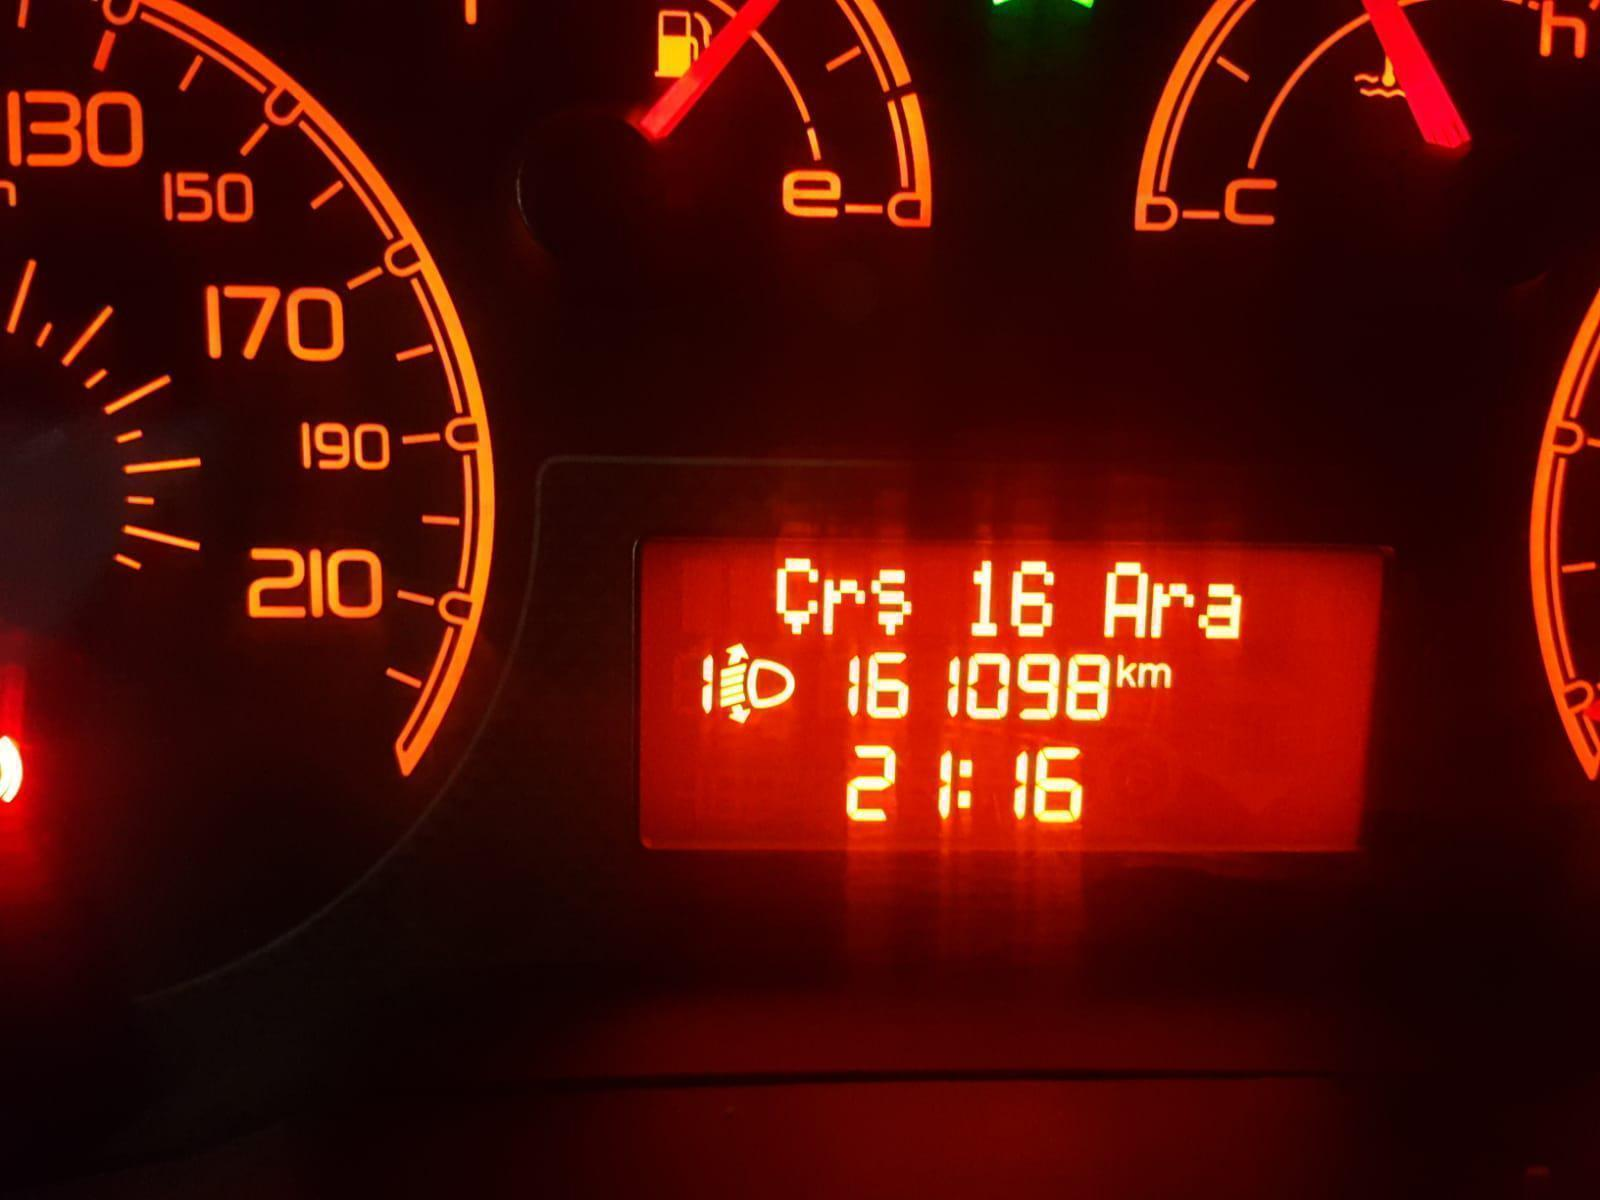0: (965, 650, 1012, 721)
1: (969, 558, 998, 638), (935, 749, 954, 821), (1010, 749, 1029, 821), (945, 654, 963, 718), (700, 652, 716, 715), (847, 654, 860, 716)
2: (843, 742, 897, 822)
6: (1031, 745, 1083, 824), (1008, 558, 1054, 637), (864, 650, 911, 720)
8: (1063, 653, 1112, 722)
9: (1015, 652, 1061, 721)
X: (1102, 560, 1149, 639), (774, 557, 819, 634), (871, 568, 913, 635), (1197, 581, 1242, 642), (1149, 581, 1196, 639), (821, 579, 866, 635), (954, 758, 974, 811), (1136, 661, 1173, 689), (1116, 653, 1138, 689)
odometer: (629, 531, 1390, 862)
